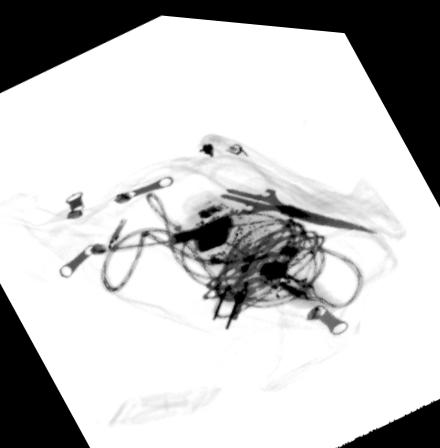Scissors: (177, 156, 376, 223)
